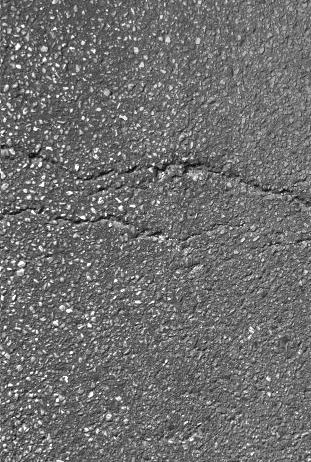crack: (1, 110, 311, 263)
